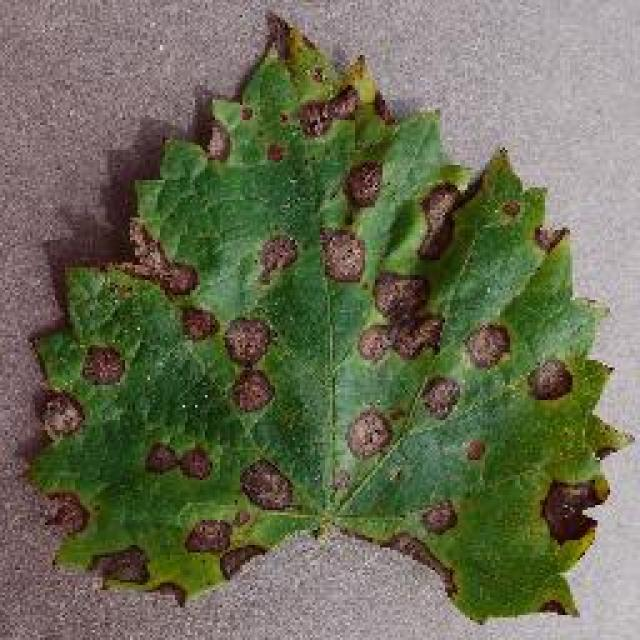Grape___Black_rot: (15, 20, 638, 633)
